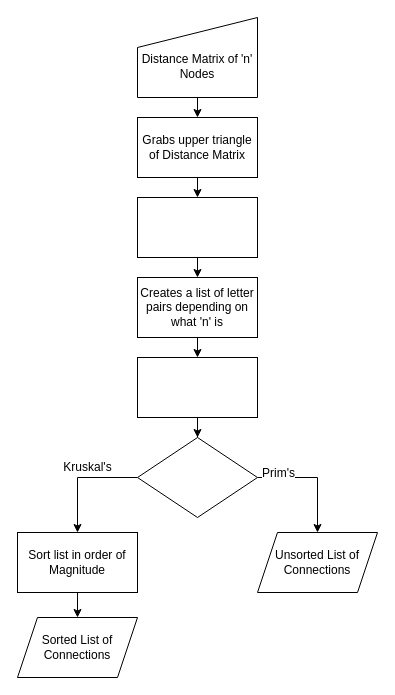
The diagram is 395 pixels wide and 695 high, and some of its shapes have lost their labels. The centre of each missing label's shape, as x and y in pixels:
Combines list of weights with letter pairs to create a tuple: (x=197, y=387)
Converts Matrix upper triangle to a list of Weights: (x=197, y=227)
What Algorithm are we going to use?: (x=197, y=477)
